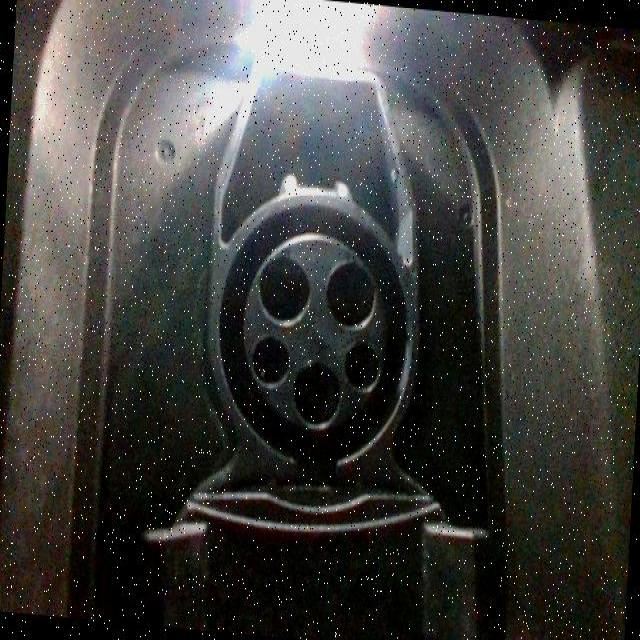Type 1: (228, 218, 417, 455)
